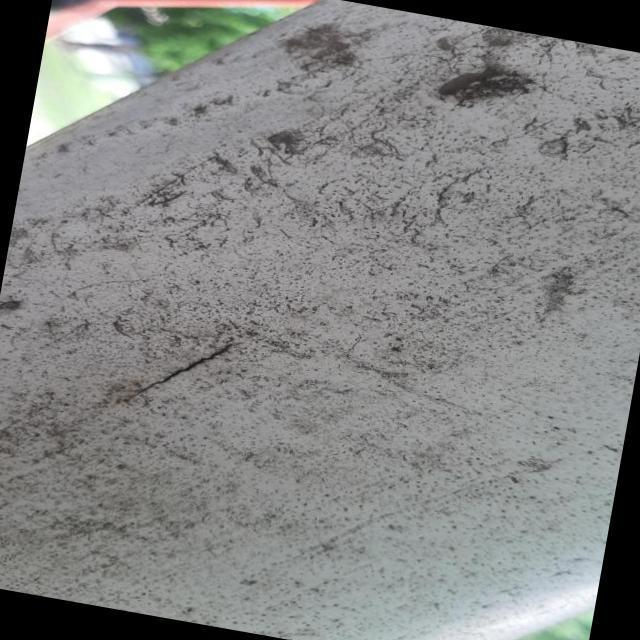defect: (123, 338, 249, 407)
